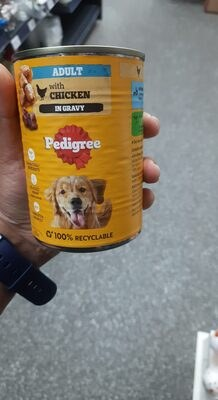pedigree dog chicken in gravy: (11, 20, 207, 380)
